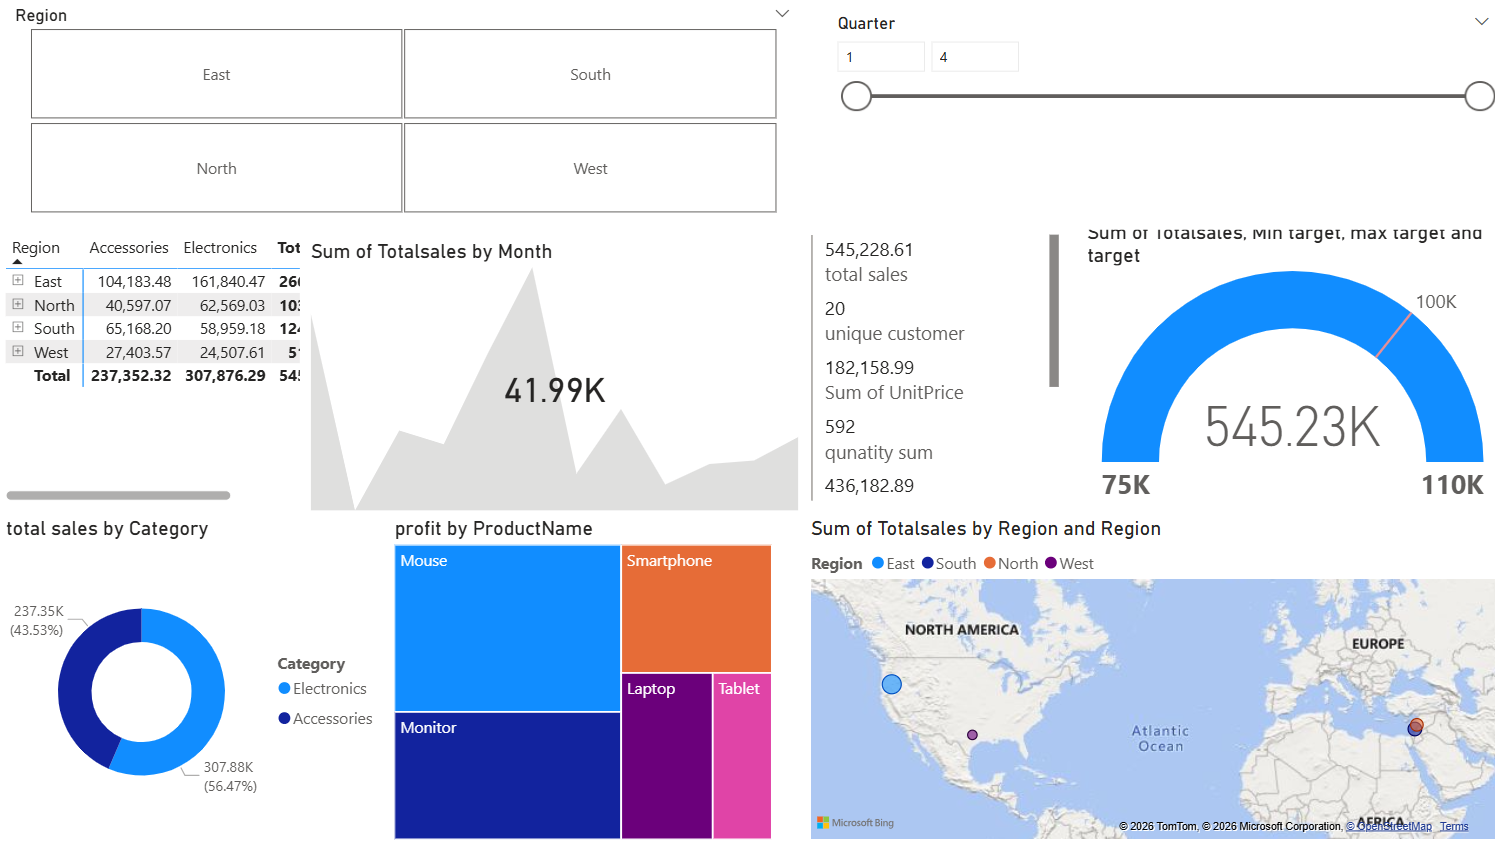

What the dashboard file says about the page in this screenshot:
{"tool":"powerbi","page":{"name":"Page 2","canvas":[1280,720],"ordinal":1},"visuals":[{"type":"donutChart","fields":{"Category":["Dim_Products.Category"],"Y":["Fact_Sales.total sales"]},"box":[0,440,331.2,280],"z":0},{"type":"treemap","fields":{"Group":["Dim_Products.ProductName"],"Values":["Fact_Sales.profit"]},"box":[331.2,440,331.2,280],"z":1000},{"type":"kpi","fields":{"Indicator":["Sum(Fact_Sales.Totalsales)"],"TrendLine":["Dim_Date.Month"]},"box":[260,203.8,425,236.2],"z":2000},{"type":"multiRowCard","fields":{"Values":["Fact_Sales.total sales","Fact_Sales.unique customer","Sum(Fact_Sales.UnitPrice)","Fact_Sales.qunatity sum","Fact_Sales.profit","Fact_Sales.Last year sales","Fact_Sales.average sales","Fact_Sales.sales east region"]},"box":[685,196.2,221.2,236.2],"z":3000},{"type":"gauge","fields":{"Y":["Sum(Fact_Sales.Totalsales)"],"MinValue":["Fact_Sales.Min target"],"MaxValue":["Fact_Sales.max target"],"TargetValue":["Fact_Sales.target"]},"box":[920,188.8,360,251.2],"z":4000},{"type":"pivotTable","fields":{"Rows":["Dim_Customers.Region","Dim_Products.ProductName"],"Columns":["Dim_Products.Category"],"Values":["Sum(Fact_Sales.Totalsales)"]},"box":[0,196.2,260,236.2],"z":5000},{"type":"slicer","fields":{"Values":["Dim_Customers.Region"]},"box":[0,0,684.8,188.7],"z":6000},{"type":"slicer","fields":{"Values":["Dim_Date.Quarter"]},"box":[700.1,7,580.1,188.7],"z":7000},{"type":"map","fields":{"Category":["Dim_Customers.Region"],"Size":["Sum(Fact_Sales.Totalsales)"],"Series":["Dim_Customers.Region"]},"box":[685,440,595,280],"z":8000}]}

Visuals, with their boxes in screenshot pixels (x1, y1, x2, y2), scaled from the page's 1280x720 canvas onto the 1495x843 screenshot:
donutChart - Dim_Products.Category x Fact_Sales.total sales: (0, 515, 387, 842)
treemap - Dim_Products.ProductName x Fact_Sales.profit: (387, 515, 774, 842)
kpi - Sum(Fact_Sales.Totalsales) x Dim_Date.Month: (304, 239, 800, 515)
multiRowCard - Fact_Sales.total sales x Fact_Sales.unique customer: (800, 230, 1058, 506)
gauge - Sum(Fact_Sales.Totalsales) x Fact_Sales.Min target: (1075, 221, 1494, 515)
pivotTable - Dim_Customers.Region x Dim_Products.ProductName: (0, 230, 304, 506)
slicer - Dim_Customers.Region: (0, 0, 800, 221)
slicer - Dim_Date.Quarter: (818, 8, 1494, 229)
map - Dim_Customers.Region x Sum(Fact_Sales.Totalsales): (800, 515, 1494, 842)
